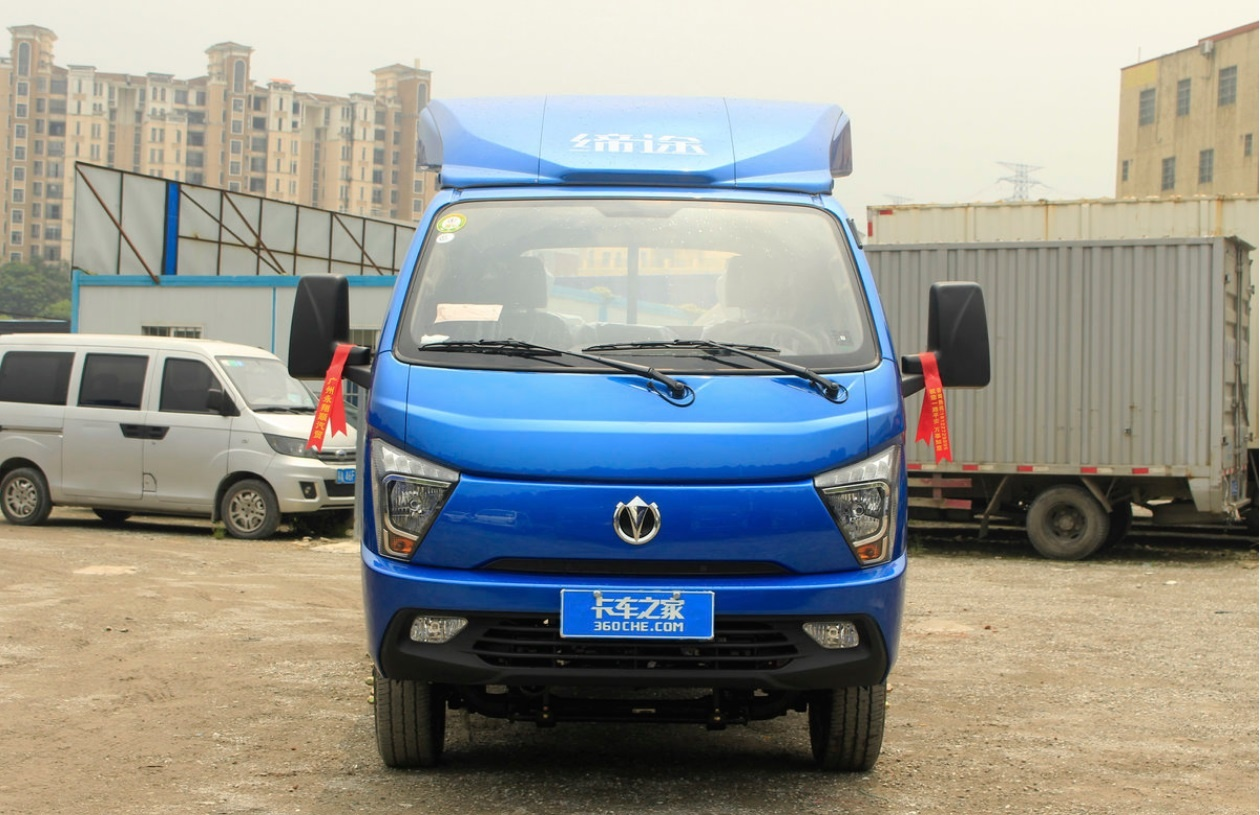truck: (321, 89, 954, 789)
